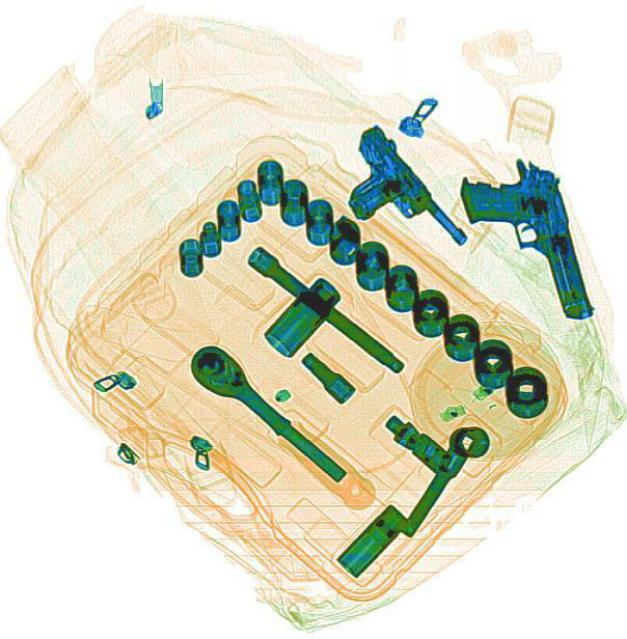Gun: (452, 149, 595, 340), (311, 118, 474, 281)
